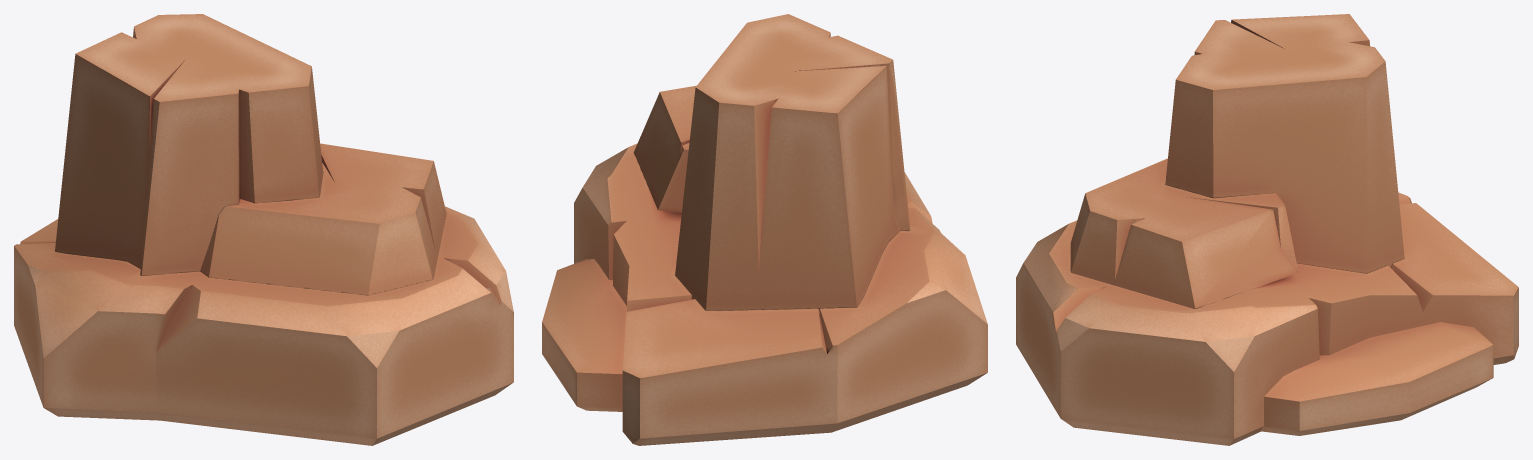
File: desert_scatter_10.glb
The picture shows the model from 3 angles, left to right: view 1: azimuth 30°, elevation 25°; view 2: azimuth 150°, elevation 25°; view 3: azimuth 270°, elevation 25°; orthographic projection. The views are drawn at different scales.
Parts seen in each view (by area): view 1: Rock_10_Rock_10_0; view 2: Rock_10_Rock_10_0; view 3: Rock_10_Rock_10_0.
Part boxes in pixels (<box>): Rock_10_Rock_10_0: <box>14,14,513,445</box>; Rock_10_Rock_10_0: <box>542,14,987,445</box>; Rock_10_Rock_10_0: <box>1016,14,1518,445</box>.
Size of the model in its own units: 1.72 by 1.2 by 1.86.
1 material, 1 textured.
